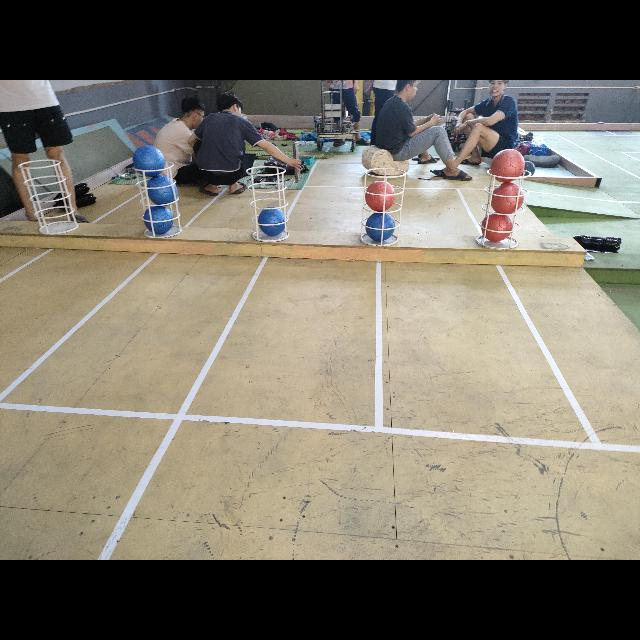B: (133, 146, 165, 177), (148, 176, 178, 206), (144, 206, 174, 234), (257, 208, 285, 236), (366, 214, 394, 242)
R: (491, 149, 525, 183), (491, 182, 523, 214), (481, 214, 513, 242), (366, 181, 394, 211)
